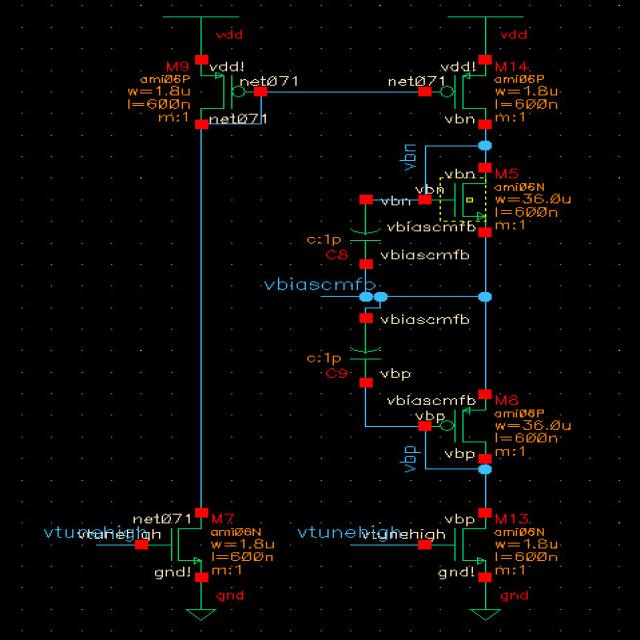cap: (350, 310, 382, 391), (349, 194, 382, 272)
nmos: (421, 507, 493, 587), (136, 507, 209, 584), (422, 164, 490, 238)
pmos: (416, 54, 494, 131), (419, 389, 495, 465), (194, 53, 267, 130)
vdd: (444, 10, 532, 48), (162, 12, 244, 52)
